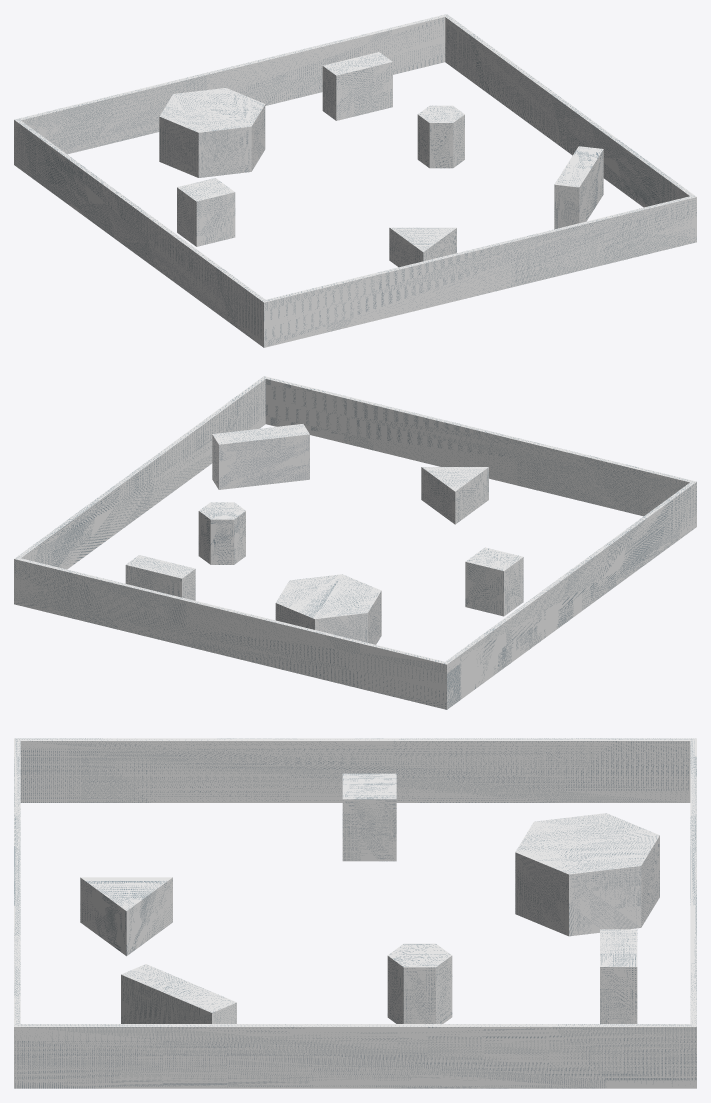
The model's file is obstacles2.dae.
3 renders of one model, top to bottom at view 1: azimuth 30°, elevation 25°; view 2: azimuth 150°, elevation 25°; view 3: azimuth 270°, elevation 25°, orthographic. The views are drawn at different scales.
Parts seen in each view (by area): view 1: SketchUp (×8); view 2: SketchUp (×8); view 3: SketchUp (×8).
Part boxes in pixels (x1,y1,x2,y2): SketchUp (×8): [14, 14, 696, 347]; SketchUp (×8): [14, 376, 696, 709]; SketchUp (×8): [14, 738, 696, 1088].
Size of the model in its own units: 591 by 591 by 59.06.
